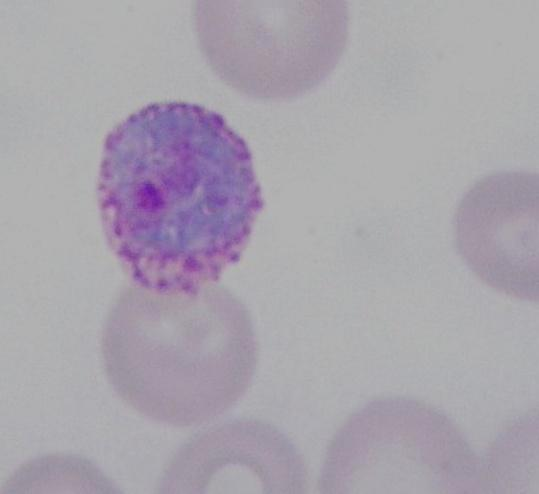Infected: (101, 99, 261, 299)
Uninfected: (101, 281, 264, 424)
